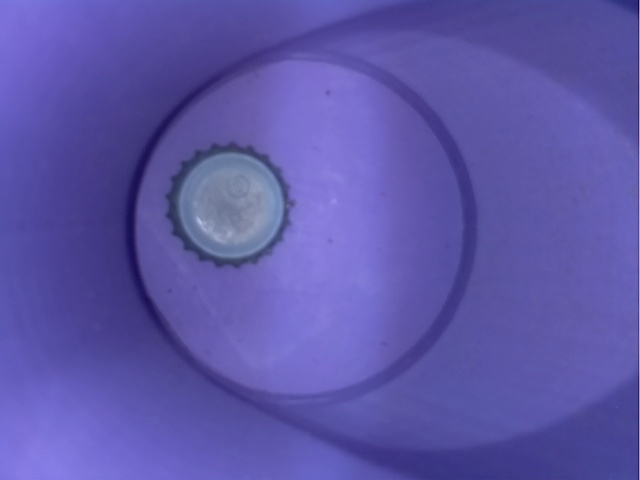capsule: (153, 129, 300, 278)
